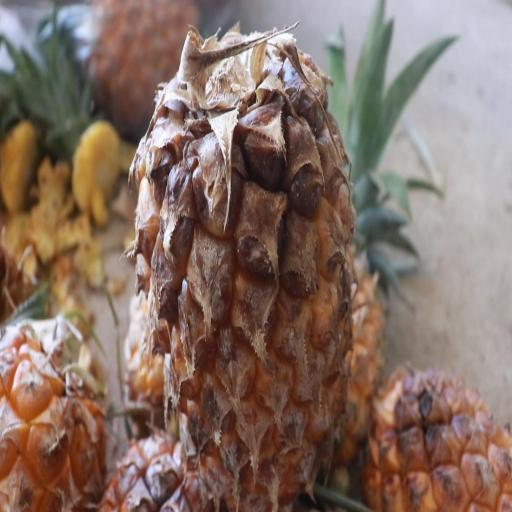Pineapple - v8 v1: (132, 20, 362, 512), (0, 297, 113, 512), (367, 356, 512, 512)
